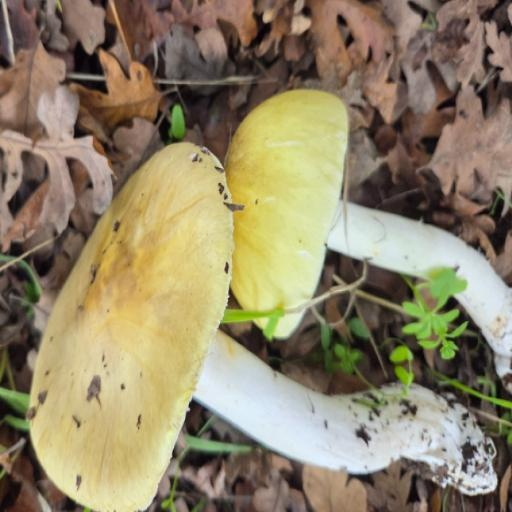mushroom: (0, 118, 288, 512), (210, 82, 352, 318)
